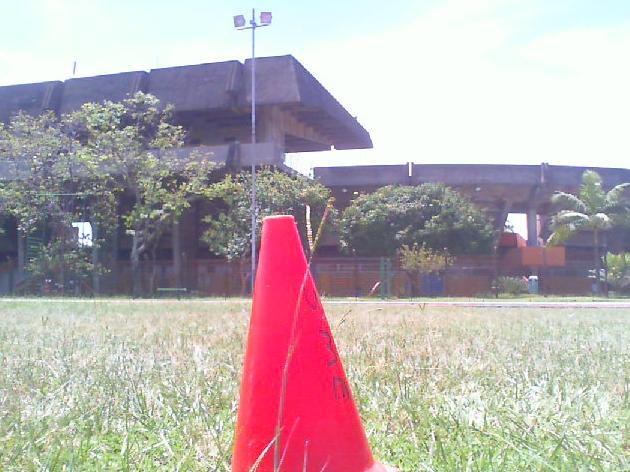0 cone: (225, 216, 399, 472)
